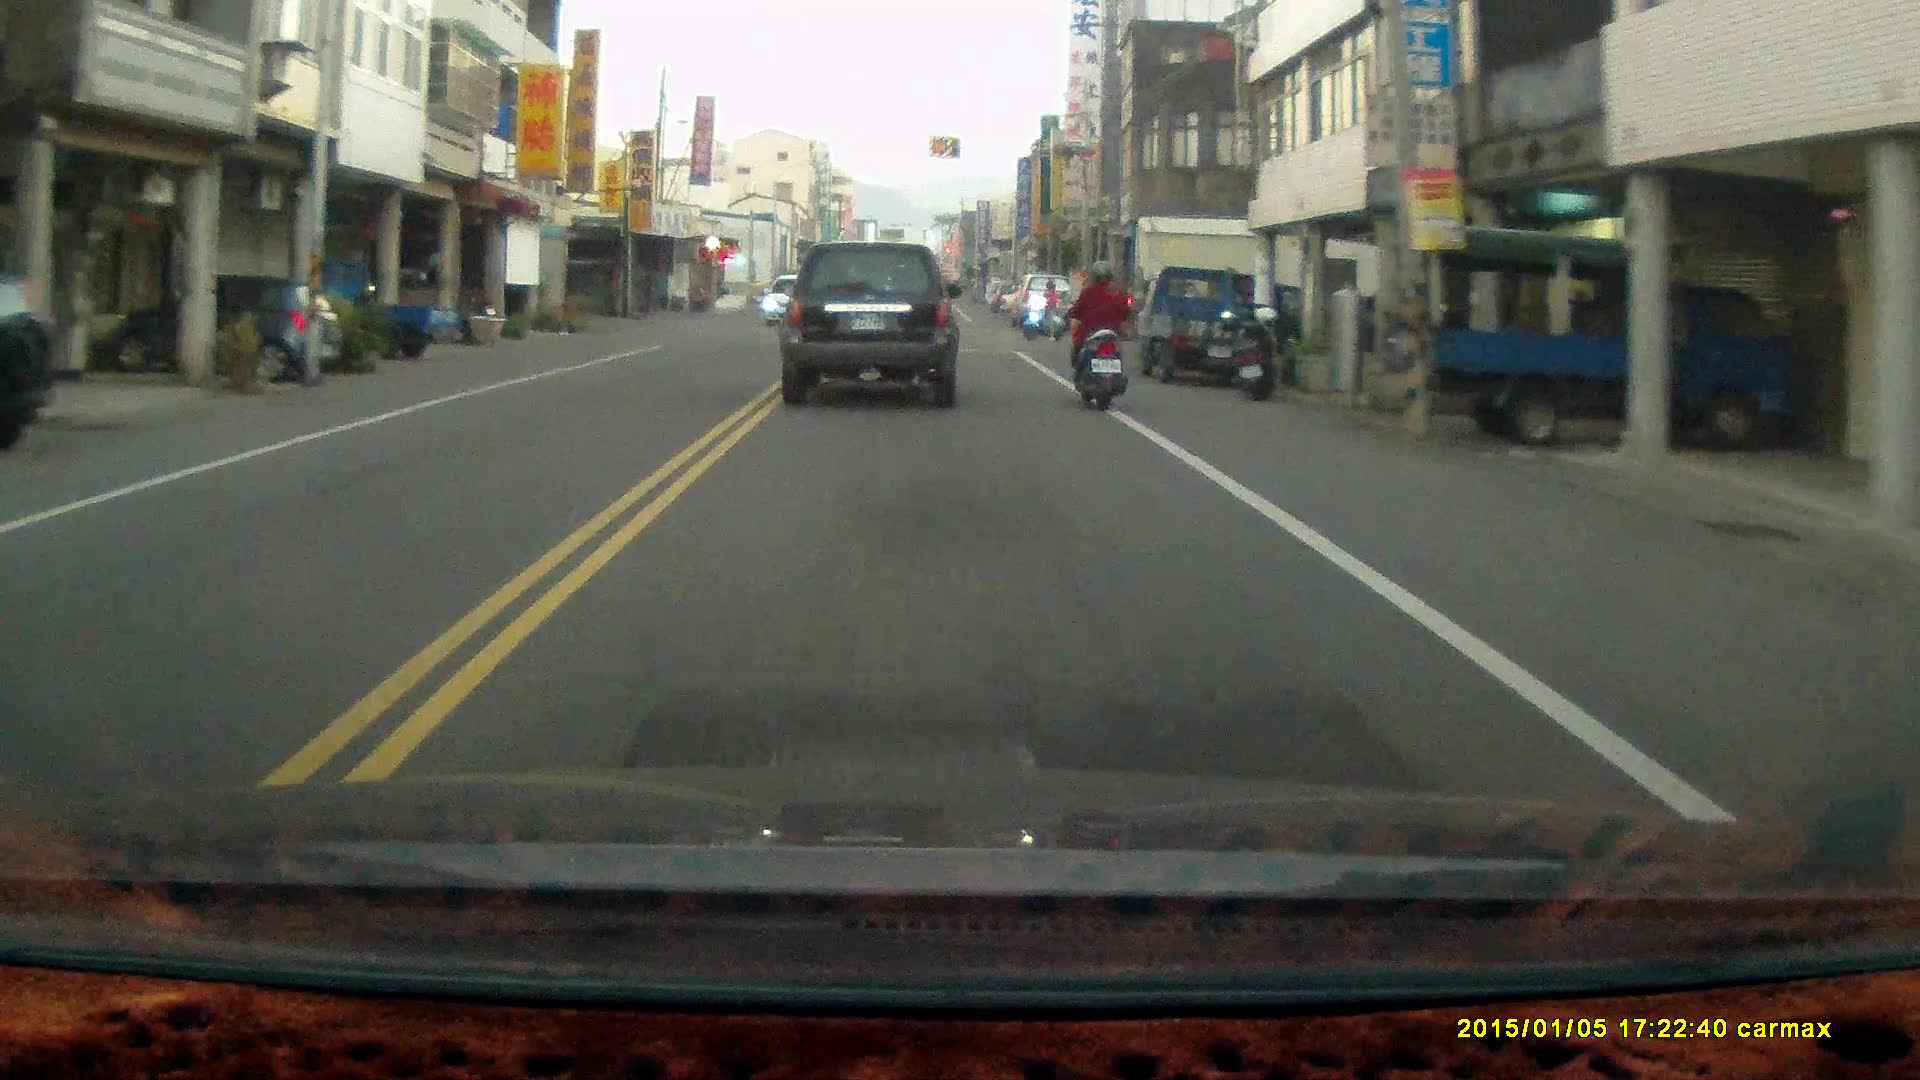rider: (1072, 260, 1129, 410), (1019, 280, 1063, 342)
vehicle: (1419, 232, 1800, 449), (781, 247, 963, 413), (100, 277, 341, 386), (1133, 268, 1285, 391), (0, 275, 64, 456), (762, 275, 822, 326)
